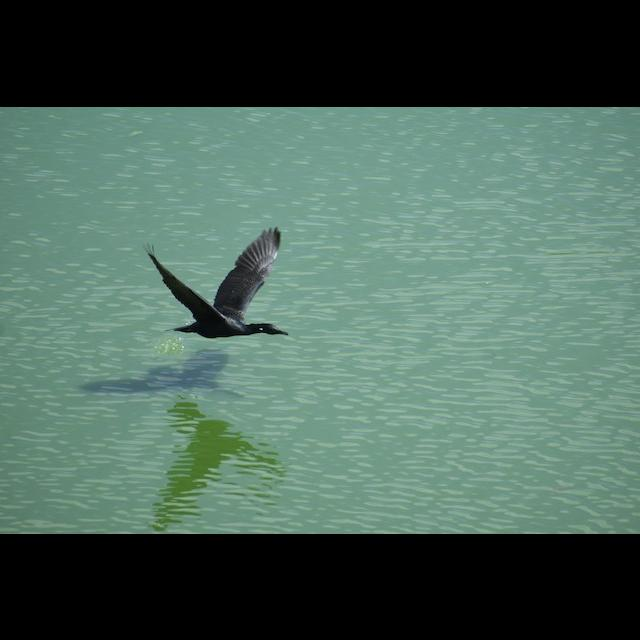cormorant: (141, 225, 299, 347)
